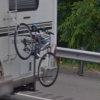Bicycle: (9, 14, 62, 93)
